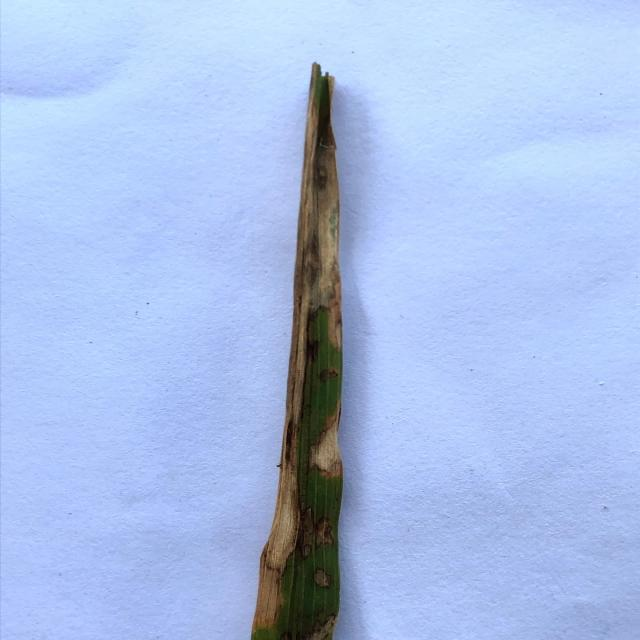Leaf Blight: (253, 64, 342, 633), (314, 405, 346, 481), (307, 606, 340, 640), (314, 570, 330, 590), (320, 369, 338, 385)
